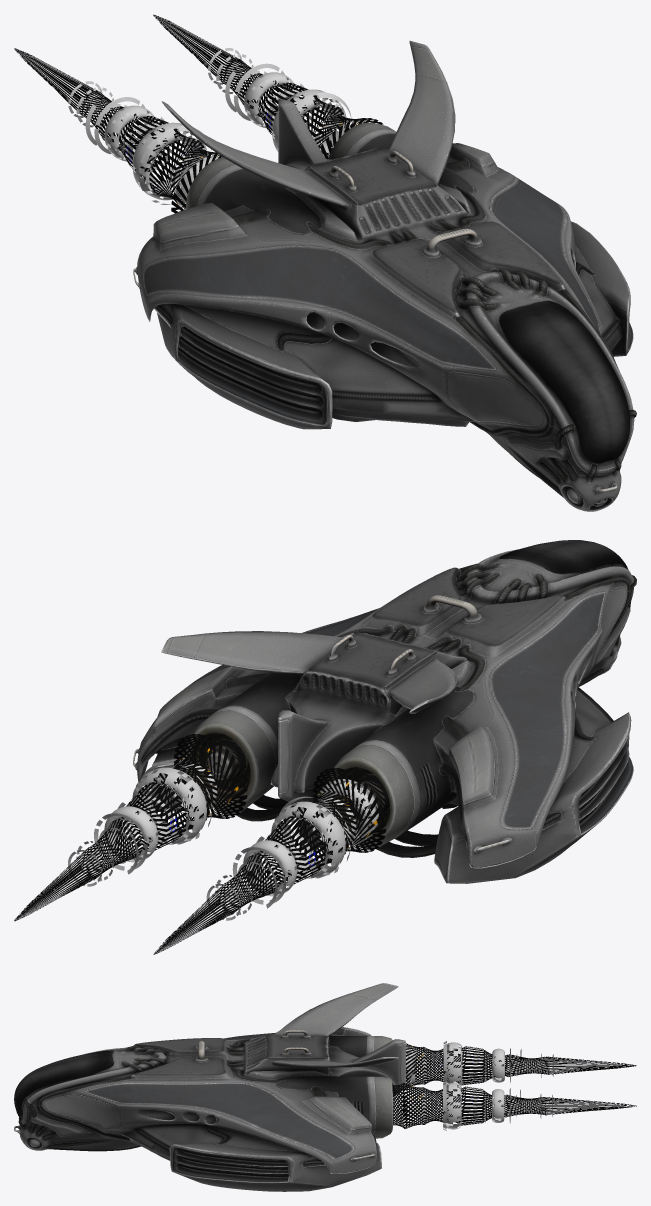
Rendered from SpaceShip.obj.
3 renders of one model, top to bottom at view 1: azimuth 30°, elevation 25°; view 2: azimuth 150°, elevation 25°; view 3: azimuth 270°, elevation 25°, orthographic. The views are drawn at different scales.
Parts seen in each view (by area): view 1: Intergalactic_Spaceships_Version_2, Circle, Circle.001, Torus.003, Torus.002, Torus.006, Torus.005; view 2: Intergalactic_Spaceships_Version_2, Circle.001, Circle, Torus.003, Torus.005, Torus.006, Torus.002, Torus.004; view 3: Intergalactic_Spaceships_Version_2, Circle.001, Circle, Torus.005, Torus.003, Torus.002, Torus.006.
Part boxes in pixels (<box>): Intergalactic_Spaceships_Version_2: <box>133,40,636,511</box>; Circle: <box>14,48,222,213</box>; Circle.001: <box>153,14,383,158</box>; Torus.003: <box>128,122,211,204</box>; Torus.002: <box>68,81,166,161</box>; Torus.006: <box>208,48,306,128</box>; Torus.005: <box>267,89,351,157</box>; Intergalactic_Spaceships_Version_2: <box>133,540,636,883</box>; Circle.001: <box>14,733,247,921</box>; Circle: <box>153,767,386,954</box>; Torus.003: <box>267,796,356,878</box>; Torus.005: <box>129,762,217,844</box>; Torus.006: <box>68,802,158,886</box>; Torus.002: <box>206,836,297,920</box>; Torus.004: <box>315,779,378,845</box>; Intergalactic_Spaceships_Version_2: <box>14,983,405,1191</box>; Circle.001: <box>392,1083,636,1128</box>; Circle: <box>405,1043,636,1088</box>; Torus.005: <box>422,1081,477,1130</box>; Torus.003: <box>422,1041,477,1087</box>; Torus.002: <box>485,1048,553,1082</box>; Torus.006: <box>484,1088,552,1123</box>.
Bounding box in the file's own units: 5.98 × 3.1 × 13.5.
